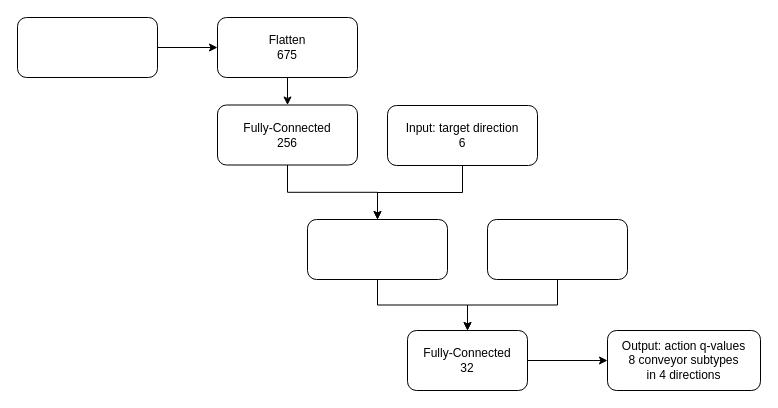
Image size: 778x408. Some labels were removed from this diagram. Here are the shapes that lost their labels. From the top down, the box of each, then its label:
(16, 16, 158, 78): Input: field of vision 15x15x3
(306, 218, 448, 280): Fully-Connected 128
(486, 218, 628, 280): Input: legal actions 32
